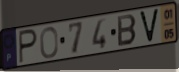4: (91, 17, 109, 51)
7: (68, 20, 85, 57)
B: (116, 14, 138, 49)
O: (39, 26, 60, 60)
P: (18, 28, 39, 66)
V: (138, 8, 161, 44)
